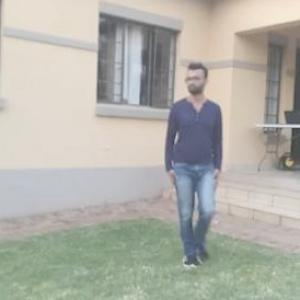follow: (161, 56, 227, 276)
